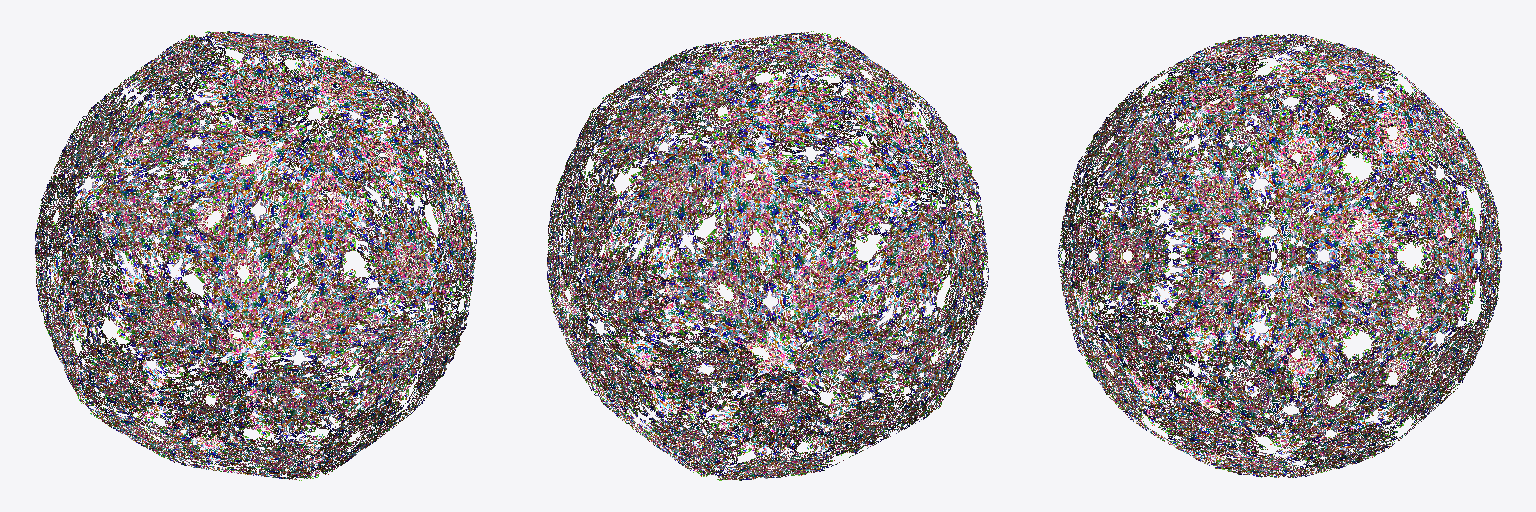
3 renders of one model, left to right at view 1: azimuth 30°, elevation 25°; view 2: azimuth 150°, elevation 25°; view 3: azimuth 270°, elevation 25°, orthographic.
Bounding box in the file's own units: 4.19 × 4.19 × 4.19.
1 materials, 1 textured.